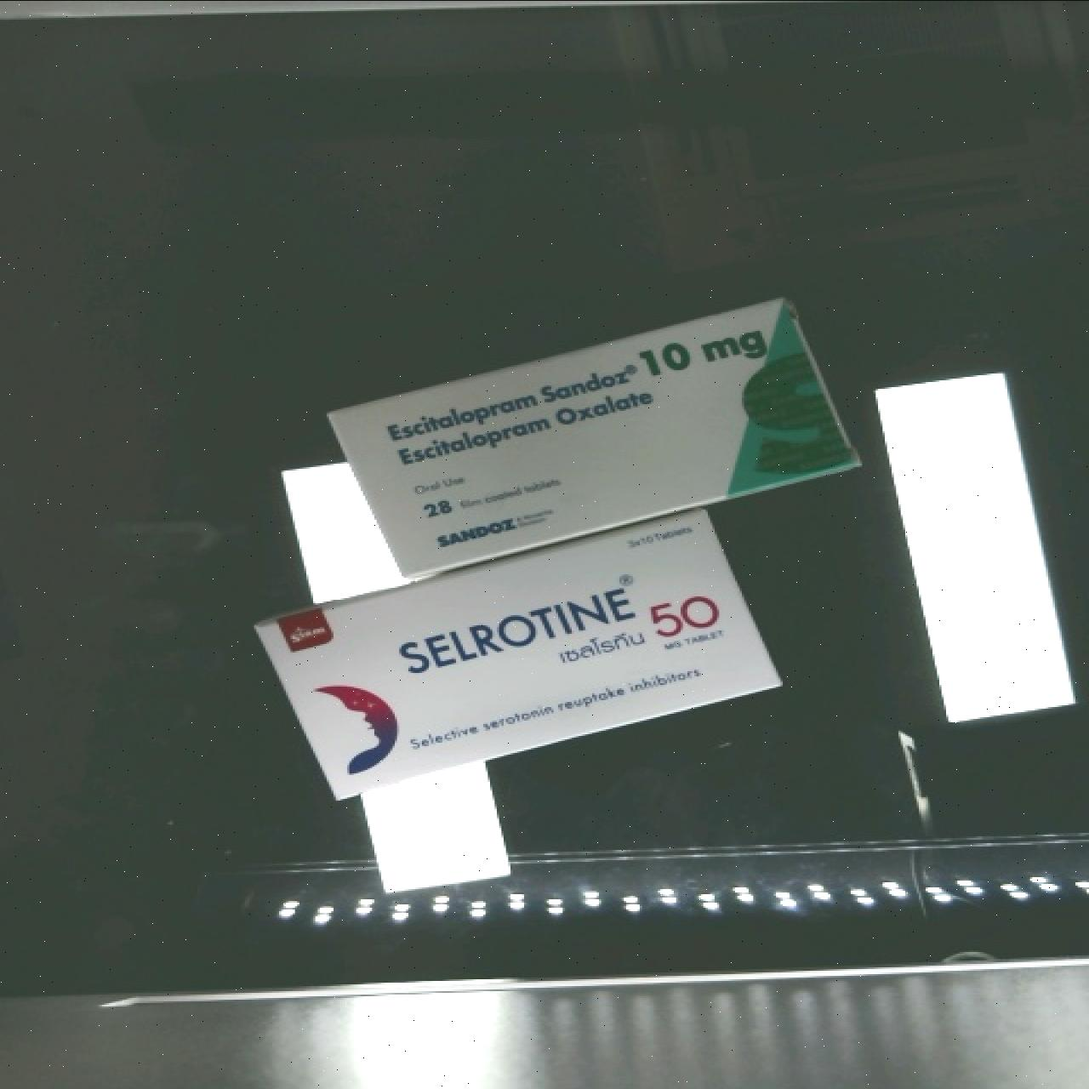medicine_label_obb: (354, 299, 800, 487), (371, 548, 744, 711)
